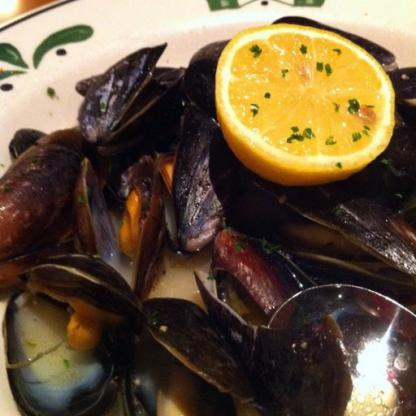lemon: (218, 28, 396, 182)
